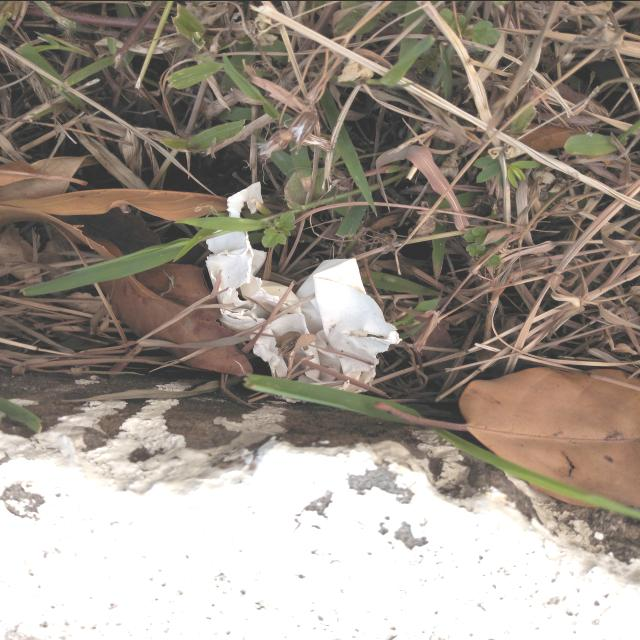Unlabeled litter: (205, 180, 403, 392)
